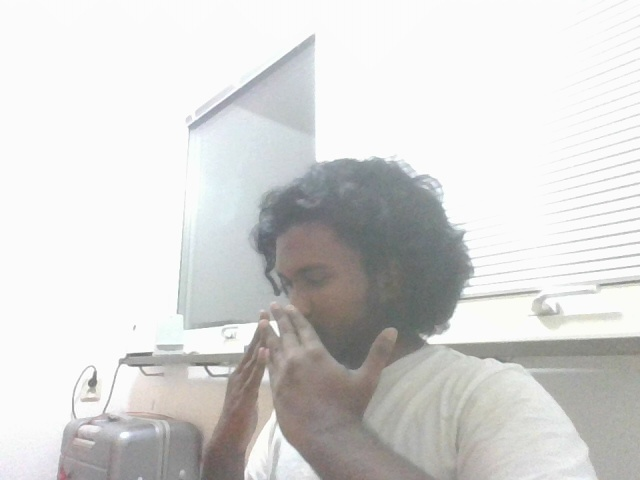Thanks: (204, 308, 423, 459)
